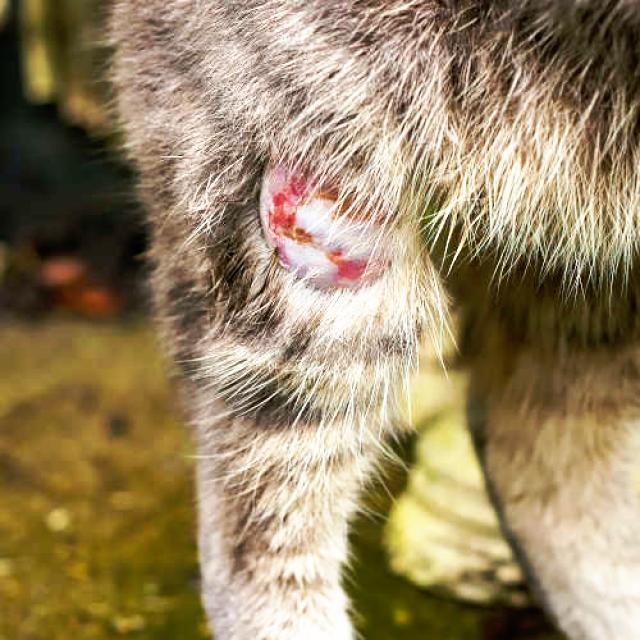lump_and_bump: (261, 166, 384, 291)
